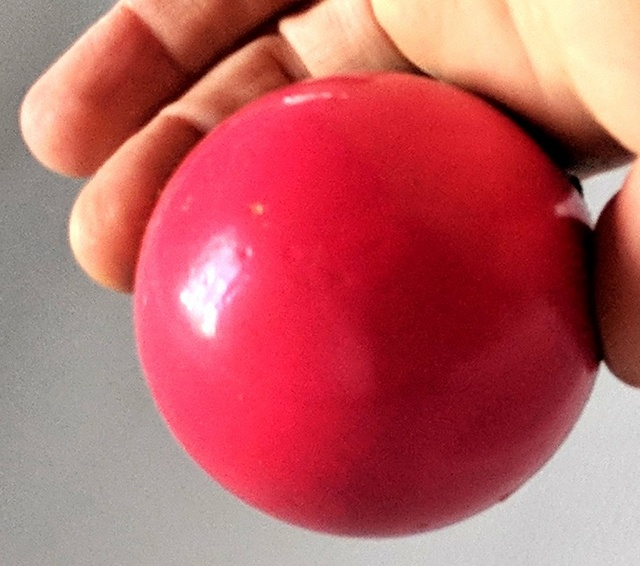ball: (130, 72, 605, 535)
